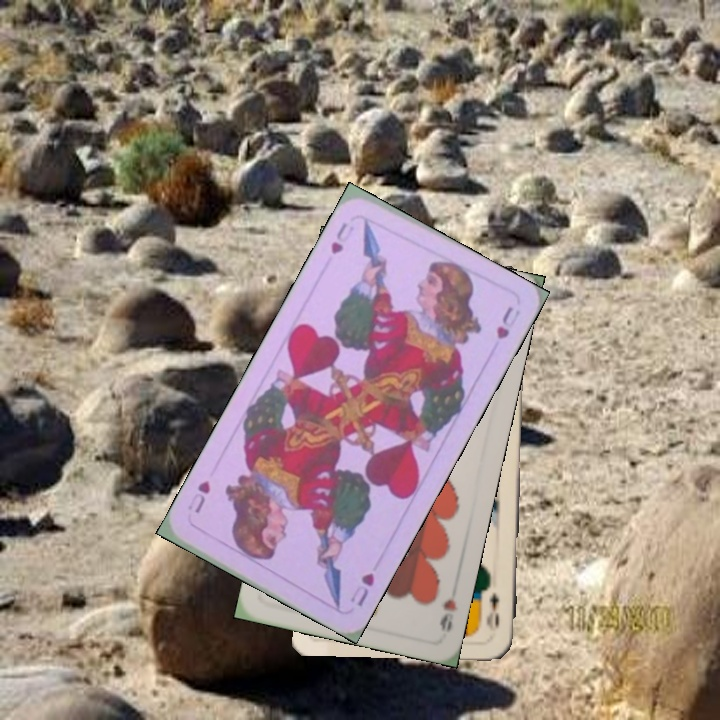EO: (483, 589, 502, 634)
H9: (435, 595, 460, 634)
HU: (345, 568, 377, 609), (326, 218, 357, 258)
